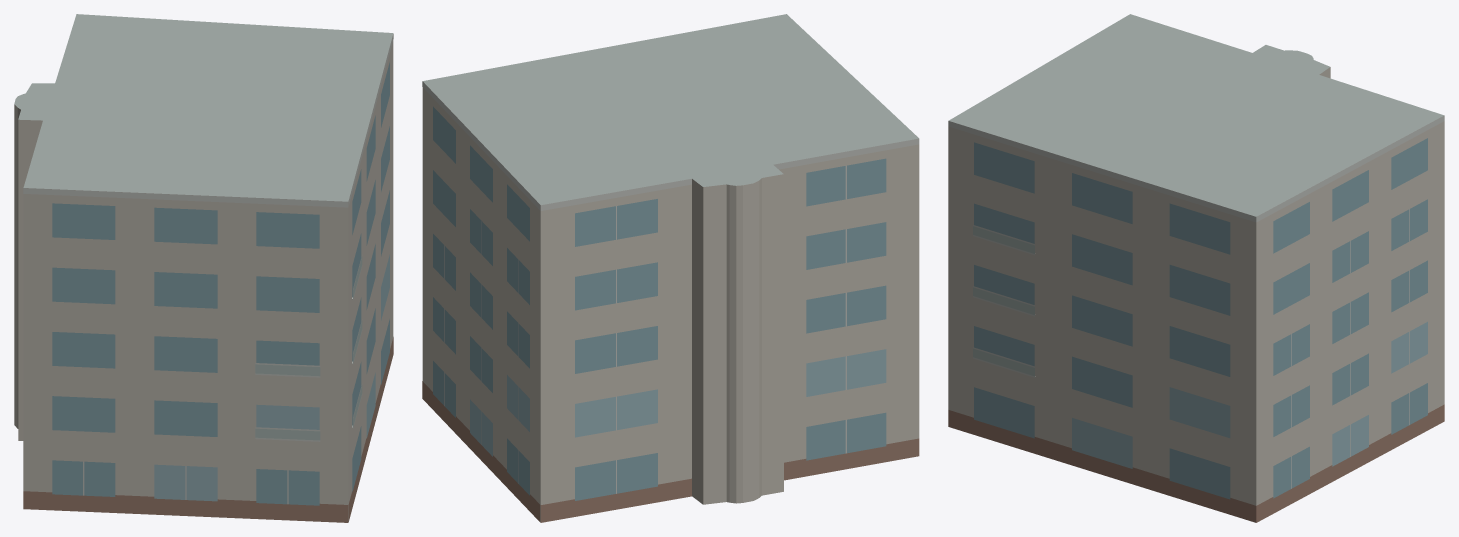
Rendered from survey-upis-32851118.glb.
3 views of the same model, side by side, from view 1: azimuth 30°, elevation 25°; view 2: azimuth 150°, elevation 25°; view 3: azimuth 270°, elevation 25° (orthographic). The views are drawn at different scales.
Parts seen in each view (by area): view 1: survey-upis-32851118.tmp; view 2: survey-upis-32851118.tmp; view 3: survey-upis-32851118.tmp.
Part boxes in pixels (x1,y1,x2,y2): survey-upis-32851118.tmp: (14, 14, 393, 522); survey-upis-32851118.tmp: (422, 14, 919, 522); survey-upis-32851118.tmp: (948, 14, 1444, 522).
Bounding box in the file's own units: 18.77 × 13.2 × 19.4.
